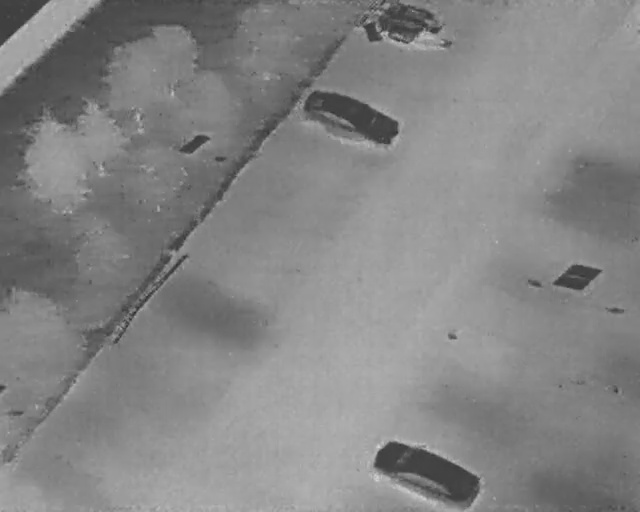Car: (294, 77, 409, 157), (367, 433, 481, 510)
